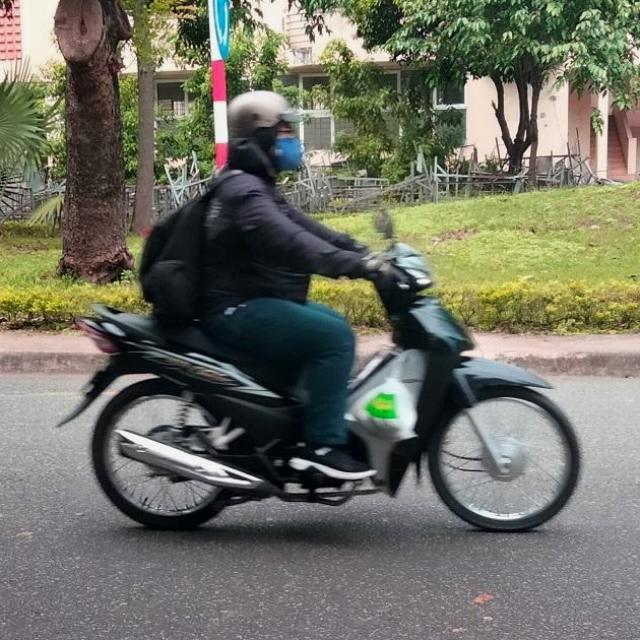Helmet: (218, 81, 308, 182)
